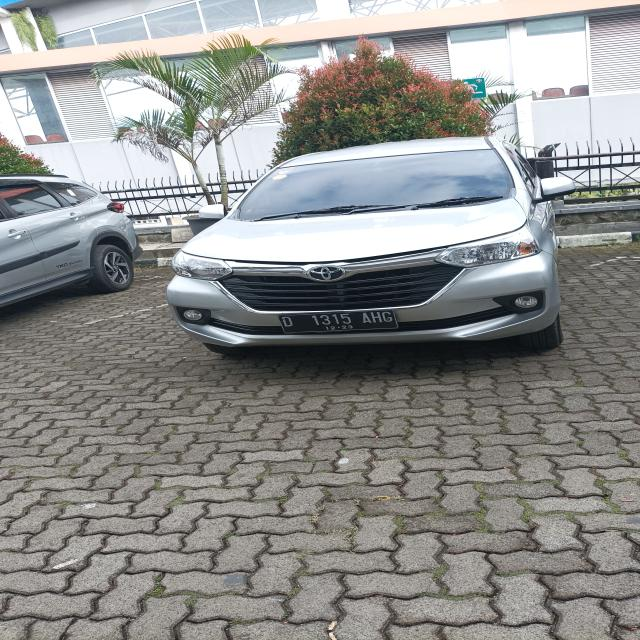license-plat: (256, 301, 453, 346)
